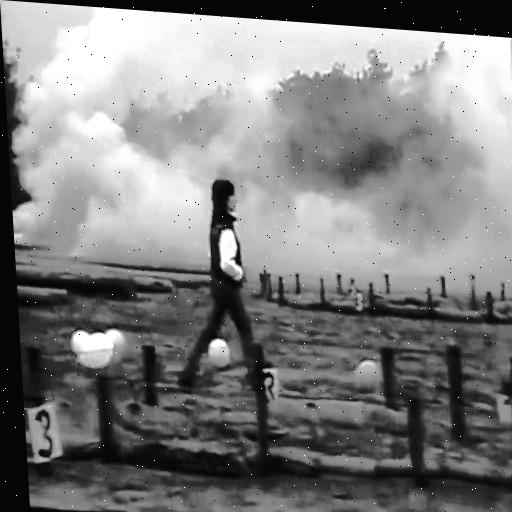balloon: (74, 331, 114, 373), (352, 357, 382, 393), (104, 328, 127, 367), (209, 336, 230, 372), (66, 323, 91, 351)
